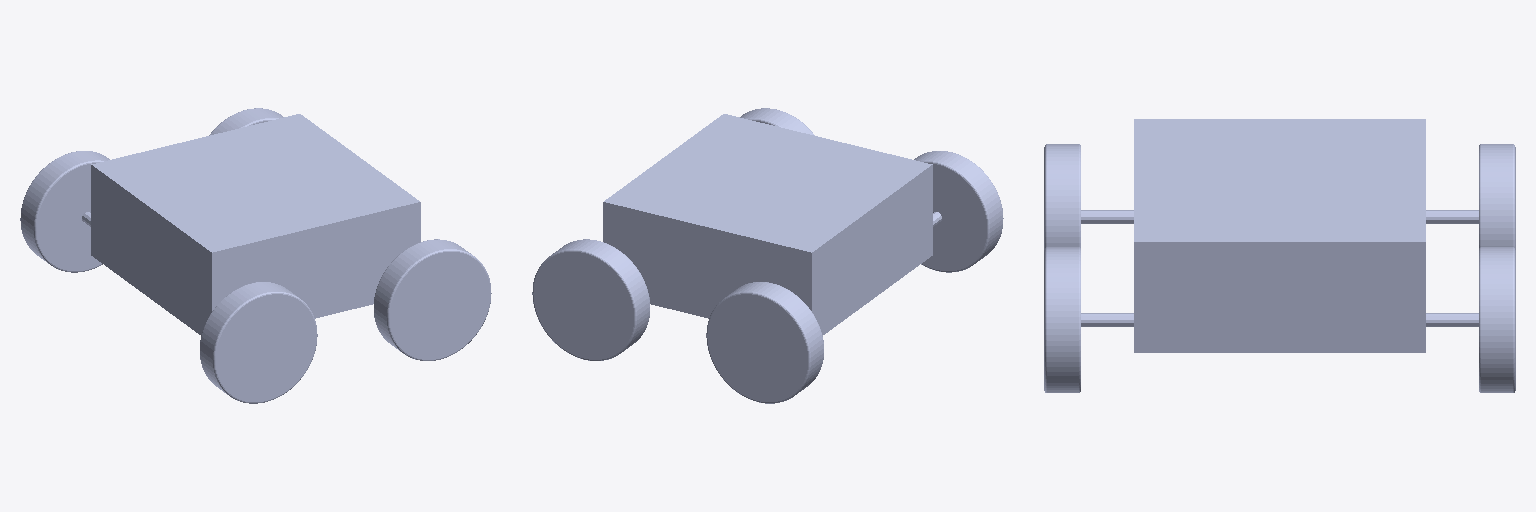
robot.urdf — inesrobot:
<?xml version="1.0" encoding="utf-8"?>
<!-- This URDF was automatically created by SolidWorks to URDF Exporter! Originally created by [author] ([email redacted]) 
     Commit Version: 1.6.0-4-g7f85cfe  Build Version: 1.6.7995.38578
     For more information, please see http://wiki.ros.org/sw_urdf_exporter -->
<robot
  name="inesrobot">
  <link
    name="base_link">
    <inertial>
      <origin
        xyz="0 -6.93889390390723E-18 -0.063659112489263"
        rpy="0 0 0" />
      <mass
        value="11.848166164294" />
      <inertia
        ixx="0.10903300626607"
        ixy="-5.77041195316992E-18"
        ixz="-1.55703327600684E-18"
        iyy="0.108073882786479"
        iyz="2.84265142059592E-19"
        izz="0.185245611139067" />
    </inertial>
    <visual>
      <origin
        xyz="0 0 0"
        rpy="0 0 0" />
      <geometry>
        <mesh
          filename="package://inesrobot/meshes/base_link.STL" />
      </geometry>
      <material
        name="">
        <color
          rgba="0.792156862745098 0.819607843137255 0.933333333333333 1" />
      </material>
    </visual>
    <collision>
      <origin
        xyz="0 0 0"
        rpy="0 0 0" />
      <geometry>
        <mesh
          filename="package://inesrobot/meshes/base_link.STL" />
      </geometry>
    </collision>
  </link>
  <link
    name="WheelAvD_Link">
    <inertial>
      <origin
        xyz="5.55111512312578E-17 0.0190056956240241 1.38777878078145E-17"
        rpy="0 0 0" />
      <mass
        value="0.69103336820671" />
      <inertia
        ixx="0.00108828555880618"
        ixy="-1.81141999605506E-19"
        ixz="1.9840762320426E-19"
        iyy="0.00201013510282896"
        iyz="1.88890663860063E-21"
        izz="0.00108828555880618" />
    </inertial>
    <visual>
      <origin
        xyz="0 0 0"
        rpy="0 0 0" />
      <geometry>
        <mesh
          filename="package://inesrobot/meshes/WheelAvD_Link.STL" />
      </geometry>
      <material
        name="">
        <color
          rgba="0.792156862745098 0.819607843137255 0.933333333333333 1" />
      </material>
    </visual>
    <collision>
      <origin
        xyz="0 0 0"
        rpy="0 0 0" />
      <geometry>
        <mesh
          filename="package://inesrobot/meshes/WheelAvD_Link.STL" />
      </geometry>
    </collision>
  </link>
  <joint
    name="wheelAvD"
    type="continuous">
    <origin
      xyz="0.127 -0.2455 -0.1016"
      rpy="0 0 0" />
    <parent
      link="base_link" />
    <child
      link="WheelAvD_Link" />
    <axis
      xyz="0 1 0" />
  </joint>
  <link
    name="WheelAvG_Link">
    <inertial>
      <origin
        xyz="0 -0.0190056956240241 -2.08166817117217E-17"
        rpy="0 0 0" />
      <mass
        value="0.691033368206711" />
      <inertia
        ixx="0.00108828555880618"
        ixy="-1.03840485052092E-19"
        ixz="1.41247790583572E-19"
        iyy="0.00201013510282896"
        iyz="-7.96251205855057E-20"
        izz="0.00108828555880618" />
    </inertial>
    <visual>
      <origin
        xyz="0 0 0"
        rpy="0 0 0" />
      <geometry>
        <mesh
          filename="package://inesrobot/meshes/WheelAvG_Link.STL" />
      </geometry>
      <material
        name="">
        <color
          rgba="0.792156862745098 0.819607843137255 0.933333333333333 1" />
      </material>
    </visual>
    <collision>
      <origin
        xyz="0 0 0"
        rpy="0 0 0" />
      <geometry>
        <mesh
          filename="package://inesrobot/meshes/WheelAvG_Link.STL" />
      </geometry>
    </collision>
  </link>
  <joint
    name="wheelAvG"
    type="continuous">
    <origin
      xyz="0.127 0.2455 -0.1016"
      rpy="0 0 0" />
    <parent
      link="base_link" />
    <child
      link="WheelAvG_Link" />
    <axis
      xyz="0 1 0" />
  </joint>
  <link
    name="WheelArG_Link">
    <inertial>
      <origin
        xyz="0 -0.0190056956240242 6.93889390390723E-18"
        rpy="0 0 0" />
      <mass
        value="0.691033368206711" />
      <inertia
        ixx="0.00108828555880618"
        ixy="-2.4203790135328E-19"
        ixz="1.23228288769189E-19"
        iyy="0.00201013510282896"
        iyz="-2.90689102975137E-19"
        izz="0.00108828555880618" />
    </inertial>
    <visual>
      <origin
        xyz="0 0 0"
        rpy="0 0 0" />
      <geometry>
        <mesh
          filename="package://inesrobot/meshes/WheelArG_Link.STL" />
      </geometry>
      <material
        name="">
        <color
          rgba="0.792156862745098 0.819607843137255 0.933333333333333 1" />
      </material>
    </visual>
    <collision>
      <origin
        xyz="0 0 0"
        rpy="0 0 0" />
      <geometry>
        <mesh
          filename="package://inesrobot/meshes/WheelArG_Link.STL" />
      </geometry>
    </collision>
  </link>
  <joint
    name="wheelArG"
    type="continuous">
    <origin
      xyz="-0.127 0.2455 -0.1016"
      rpy="0 0 0" />
    <parent
      link="base_link" />
    <child
      link="WheelArG_Link" />
    <axis
      xyz="0 1 0" />
  </joint>
  <link
    name="wheelArD_Link">
    <inertial>
      <origin
        xyz="0 0.0190056956240241 2.08166817117217E-17"
        rpy="0 0 0" />
      <mass
        value="0.691033368206711" />
      <inertia
        ixx="0.00108828555880618"
        ixy="-1.75132610602595E-19"
        ixz="-8.15212491957661E-20"
        iyy="0.00201013510282897"
        iyz="9.08678970941803E-21"
        izz="0.00108828555880618" />
    </inertial>
    <visual>
      <origin
        xyz="0 0 0"
        rpy="0 0 0" />
      <geometry>
        <mesh
          filename="package://inesrobot/meshes/wheelArD_Link.STL" />
      </geometry>
      <material
        name="">
        <color
          rgba="0.792156862745098 0.819607843137255 0.933333333333333 1" />
      </material>
    </visual>
    <collision>
      <origin
        xyz="0 0 0"
        rpy="0 0 0" />
      <geometry>
        <mesh
          filename="package://inesrobot/meshes/wheelArD_Link.STL" />
      </geometry>
    </collision>
  </link>
  <joint
    name="wheelArd"
    type="continuous">
    <origin
      xyz="-0.127 -0.2455 -0.1016"
      rpy="0 0 0" />
    <parent
      link="base_link" />
    <child
      link="wheelArD_Link" />
    <axis
      xyz="0 1 0" />
  </joint>
</robot>

--- What the picture shows (computed from the rendered views, not written in the file) ---
3 views of the same robot in one strip: view 1: azimuth 30°, elevation 25°; view 2: azimuth 150°, elevation 25°; view 3: azimuth 270°, elevation 25° (orthographic).
Model inesrobot with 5 links and 4 joints (4 continuous), rooted at base_link, posed every joint at zero.
Links seen in each view (by area): view 1: base_link, WheelAvD_Link, wheelArD_Link, WheelArG_Link, WheelAvG_Link; view 2: base_link, WheelAvG_Link, WheelArG_Link, wheelArD_Link, WheelAvD_Link; view 3: base_link, WheelAvD_Link, WheelAvG_Link, WheelArG_Link, wheelArD_Link.
Boxes of the visible links, box(x1,y1,x2,y2) form: base_link: box(82, 114, 420, 334); WheelAvD_Link: box(374, 239, 491, 360); wheelArD_Link: box(200, 282, 317, 403); WheelArG_Link: box(20, 151, 109, 272); WheelAvG_Link: box(209, 108, 283, 135); base_link: box(603, 114, 941, 334); WheelAvG_Link: box(532, 239, 649, 360); WheelArG_Link: box(706, 282, 823, 403); wheelArD_Link: box(914, 151, 1003, 272); WheelAvD_Link: box(740, 108, 814, 135); base_link: box(1081, 119, 1478, 352); WheelAvD_Link: box(1044, 247, 1080, 392); WheelAvG_Link: box(1479, 247, 1515, 392); WheelArG_Link: box(1479, 144, 1515, 249); wheelArD_Link: box(1044, 144, 1080, 249).
Bounding box of the posed robot: 0.4064 × 0.491 × 0.1778 m (x, y, z).
Meshes: 5 distinct files referenced, 5 mesh visuals loaded (5 binary STL).
